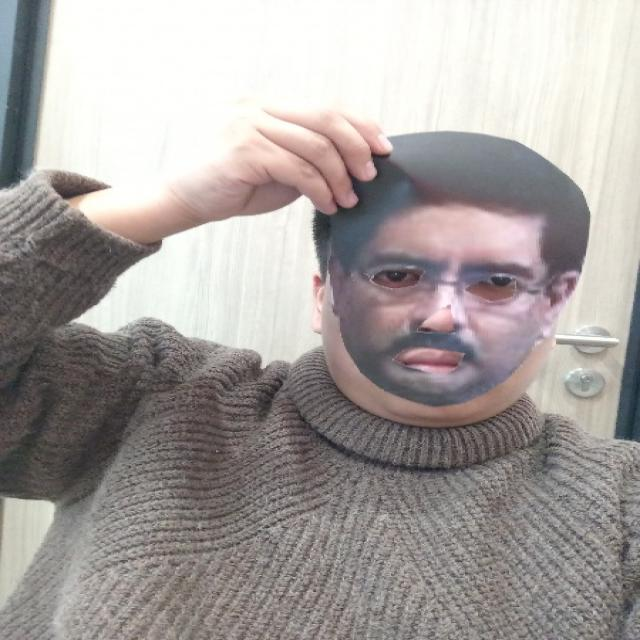mask: (319, 129, 593, 404)
